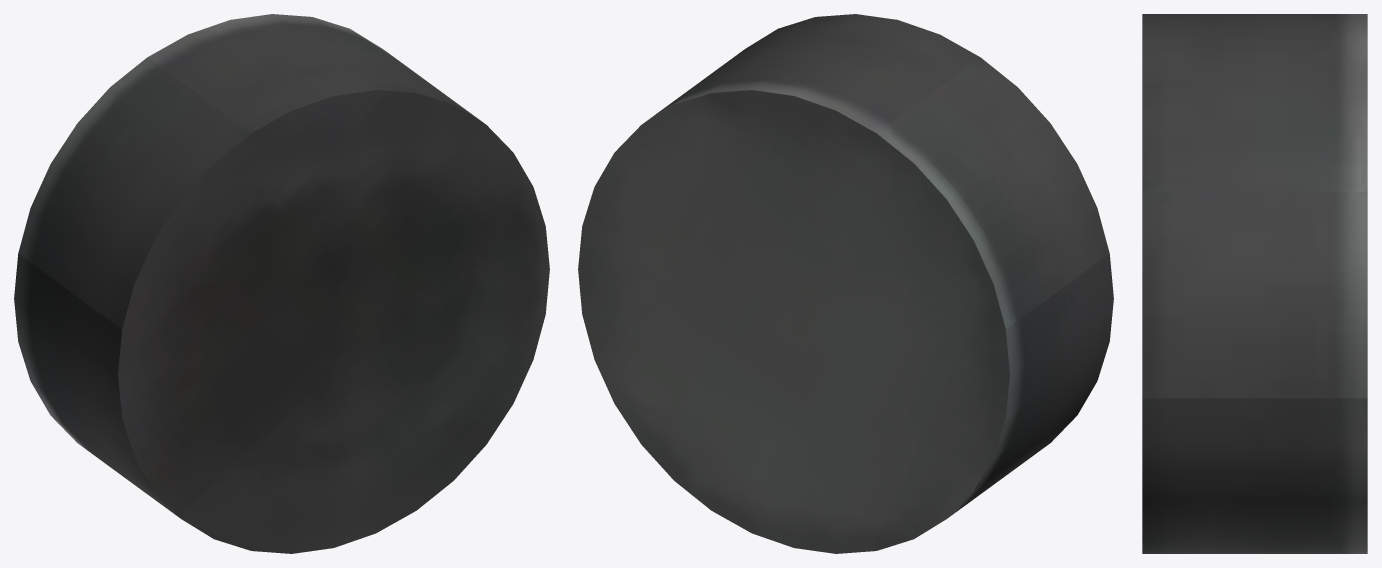
File: mode_button__button_cap.glb
3 views of the same model, side by side, from view 1: azimuth 30°, elevation 25°; view 2: azimuth 150°, elevation 25°; view 3: azimuth 270°, elevation 25° (orthographic). The views are drawn at different scales.
Parts seen in each view (by area): view 1: geometry_0; view 2: geometry_0; view 3: geometry_0.
Part boxes in pixels (box(x1,y1,x2,y2)): geometry_0: box(14, 14, 549, 553); geometry_0: box(578, 14, 1113, 553); geometry_0: box(1142, 14, 1367, 553).
Bounding box in the file's own units: 0.024 × 0.024 × 0.01.
1 material, 1 textured.
